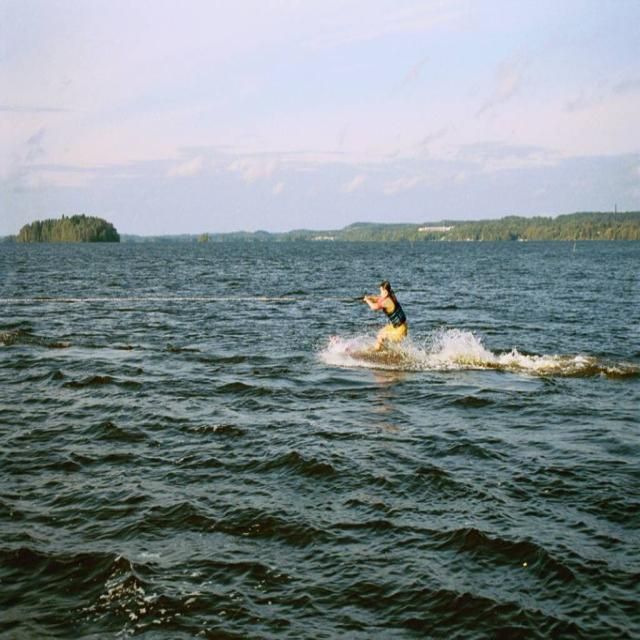Person: (363, 280, 408, 358)
